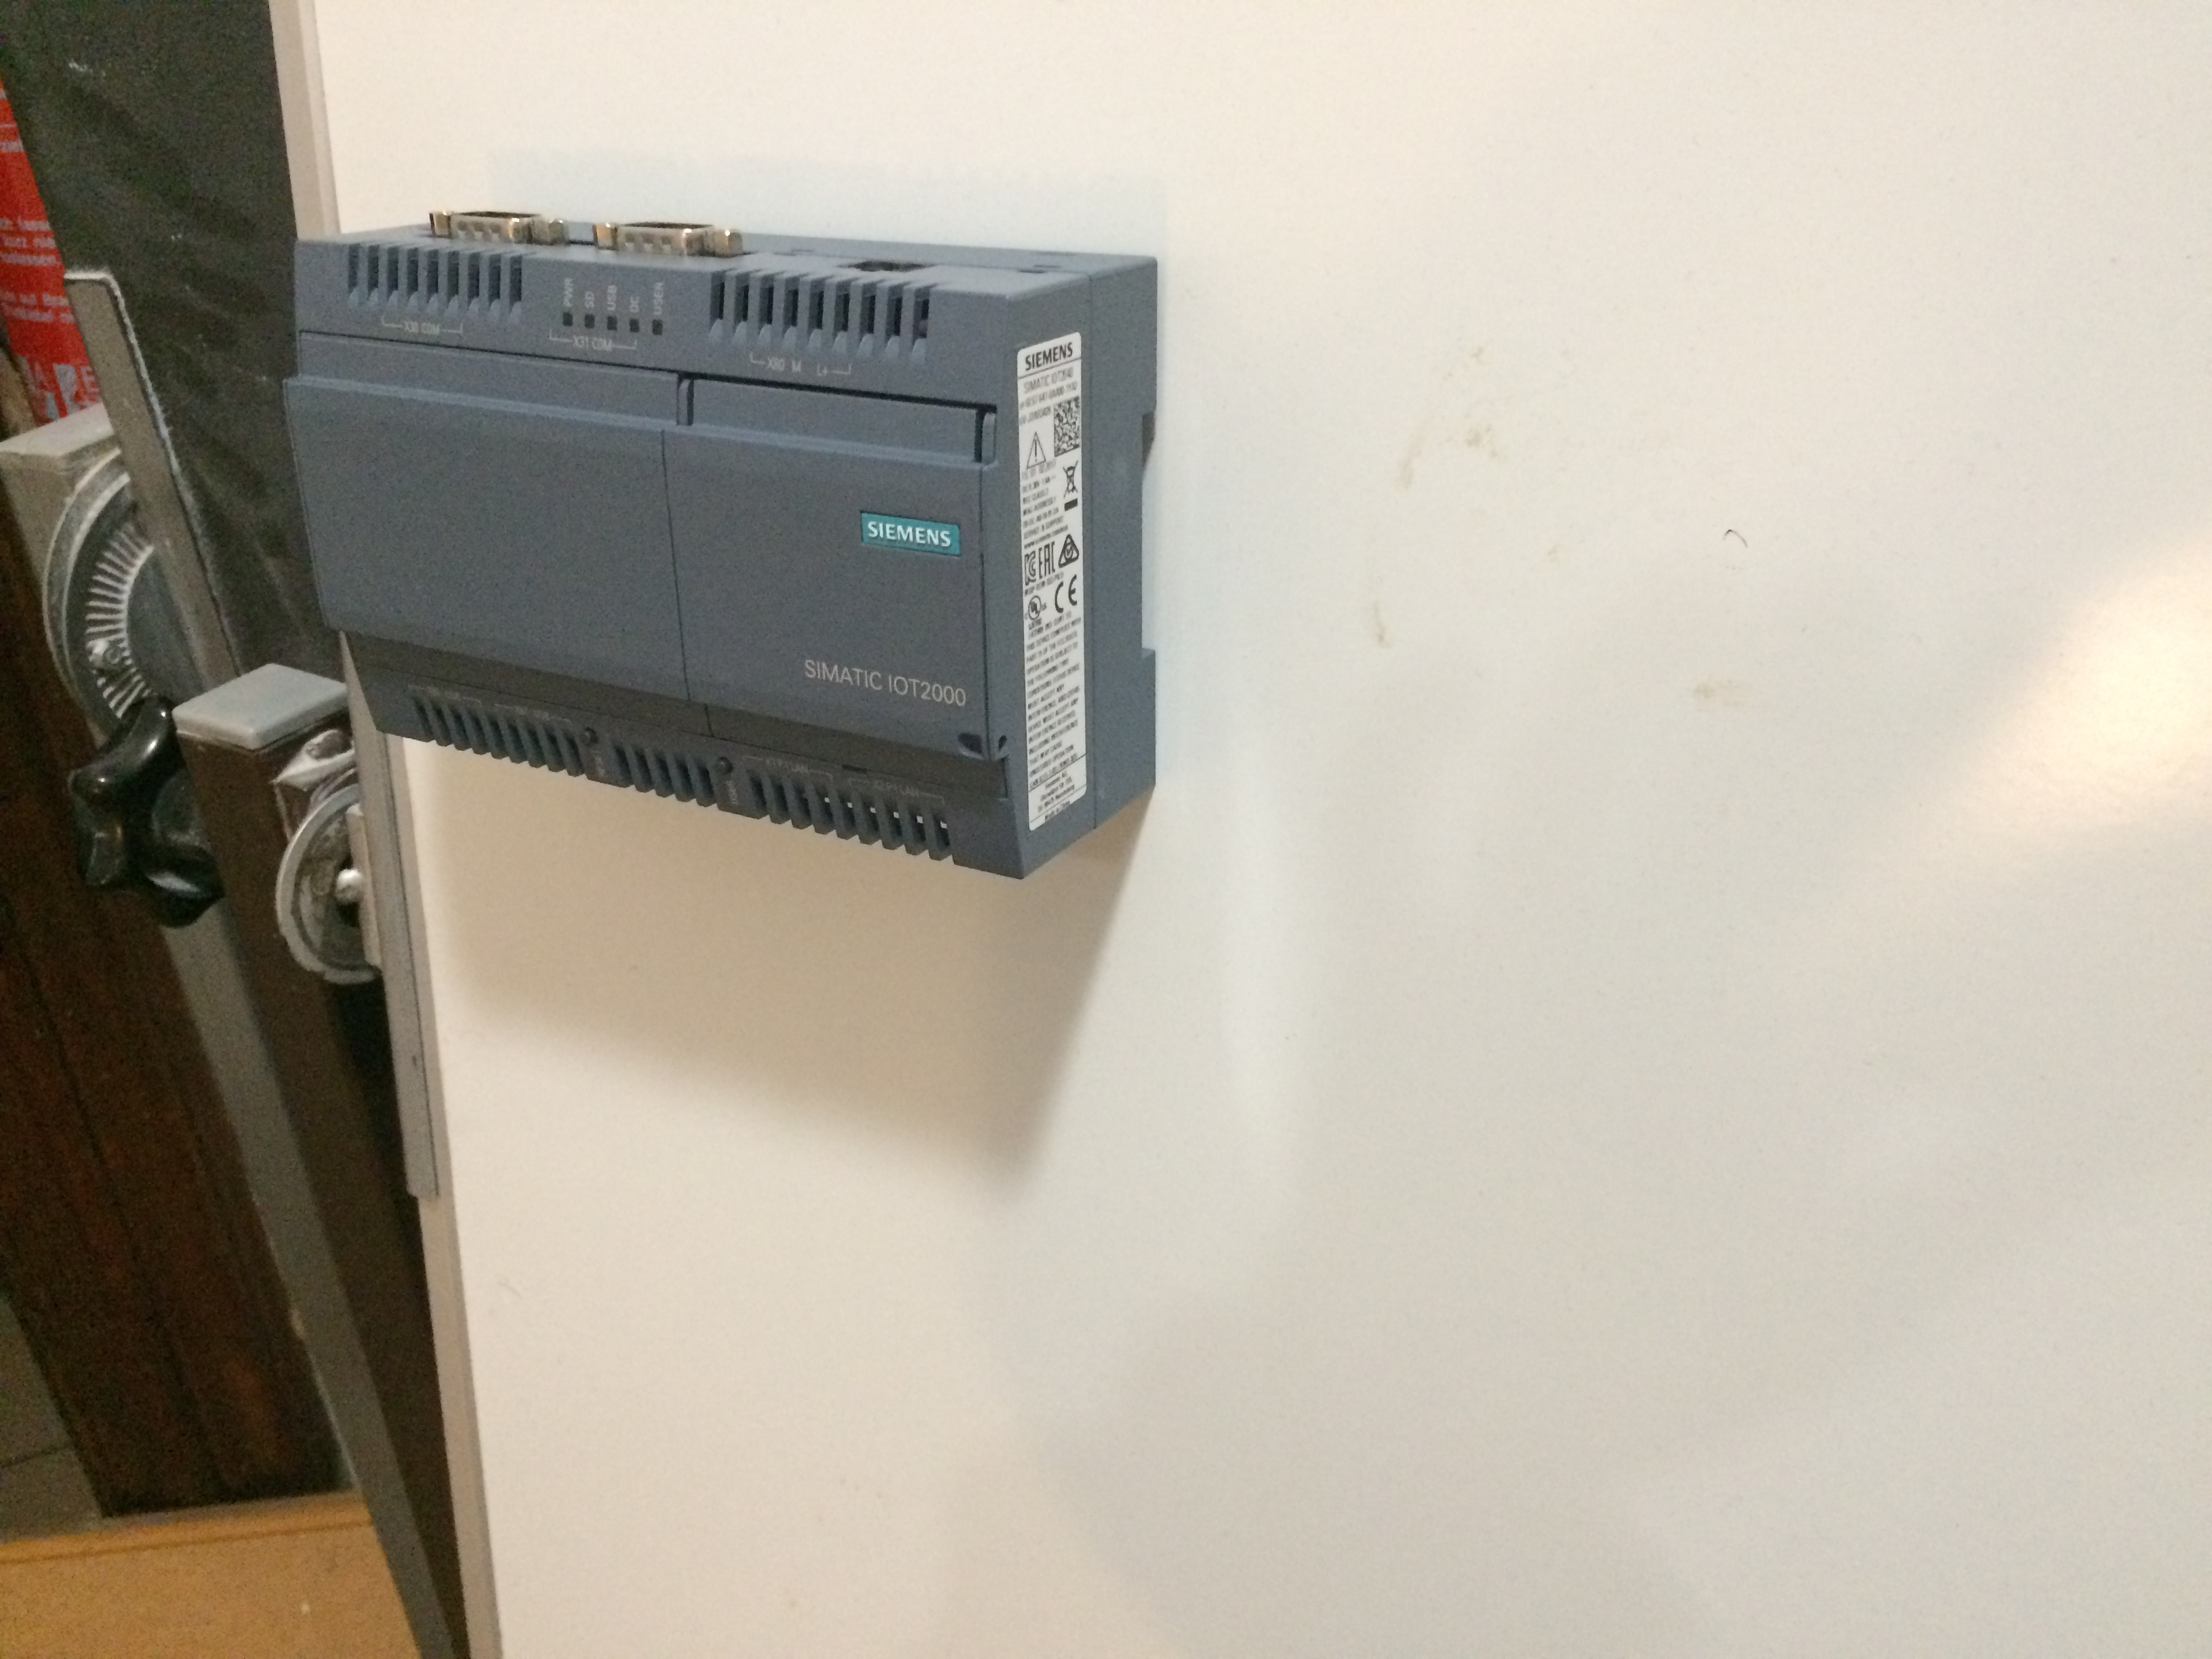iot2000: (277, 202, 1165, 889)
